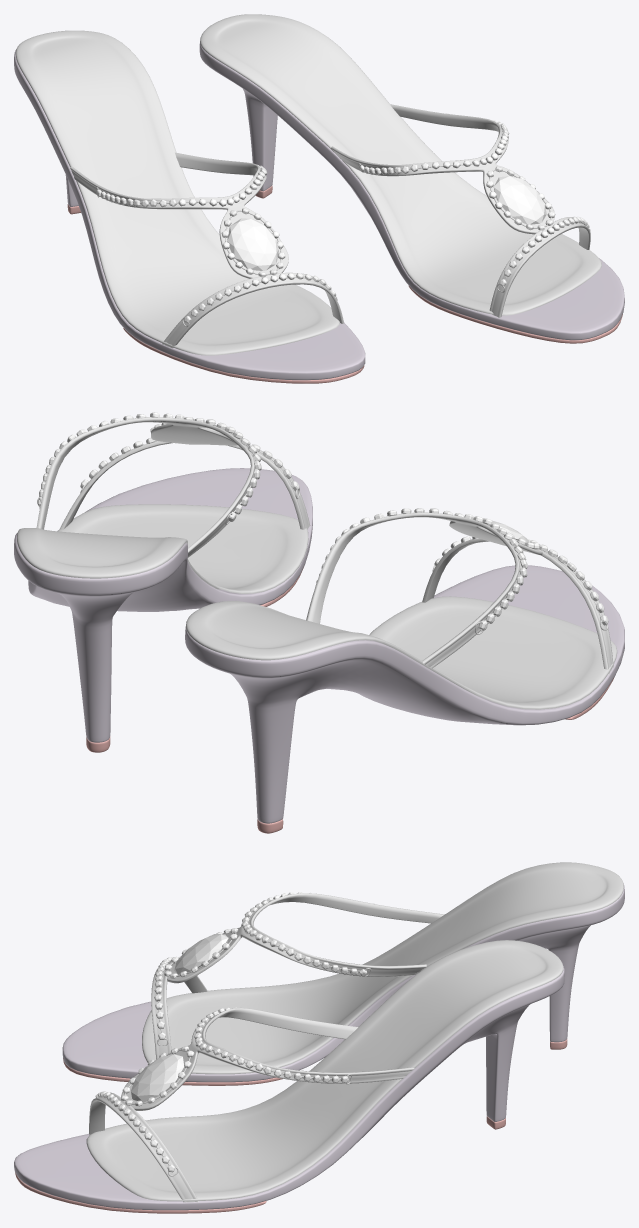
Rendered from shoes.glb.
3 views of the same model, one above another, from view 1: azimuth 30°, elevation 25°; view 2: azimuth 150°, elevation 25°; view 3: azimuth 270°, elevation 25° (orthographic). The views are drawn at different scales.
Visible parts, largest first — view 1: arch49_045_obj_07, arch49_045_obj_02, arch49_045_obj_00, arch49_045_obj_09, arch49_045_obj_06, arch49_045_obj_04, arch49_045_obj_08, arch49_045_obj_01; view 2: arch49_045_obj_07, arch49_045_obj_09, arch49_045_obj_02, arch49_045_obj_00, arch49_045_obj_06, arch49_045_obj_04; view 3: arch49_045_obj_02, arch49_045_obj_07, arch49_045_obj_00, arch49_045_obj_09, arch49_045_obj_04, arch49_045_obj_06, arch49_045_obj_01, arch49_045_obj_08.
Part boxes in pixels (x1,y1,x2,y2): arch49_045_obj_07: [15, 30, 344, 355]; arch49_045_obj_02: [200, 14, 601, 317]; arch49_045_obj_00: [199, 42, 624, 340]; arch49_045_obj_09: [14, 49, 365, 380]; arch49_045_obj_06: [96, 165, 336, 323]; arch49_045_obj_04: [359, 119, 590, 286]; arch49_045_obj_08: [67, 204, 364, 383]; arch49_045_obj_01: [255, 186, 622, 343]; arch49_045_obj_07: [186, 512, 617, 709]; arch49_045_obj_09: [185, 565, 624, 823]; arch49_045_obj_02: [17, 417, 310, 593]; arch49_045_obj_00: [14, 468, 312, 742]; arch49_045_obj_06: [316, 508, 608, 630]; arch49_045_obj_04: [37, 412, 299, 521]; arch49_045_obj_02: [86, 940, 563, 1202]; arch49_045_obj_07: [142, 862, 623, 1074]; arch49_045_obj_00: [14, 966, 564, 1210]; arch49_045_obj_09: [62, 883, 624, 1082]; arch49_045_obj_04: [95, 1007, 348, 1172]; arch49_045_obj_06: [154, 892, 367, 1039]; arch49_045_obj_01: [15, 1116, 505, 1213]; arch49_045_obj_08: [63, 1039, 567, 1085].
Size of the model in its own units: 1.28 by 0.4494 by 1.54.
